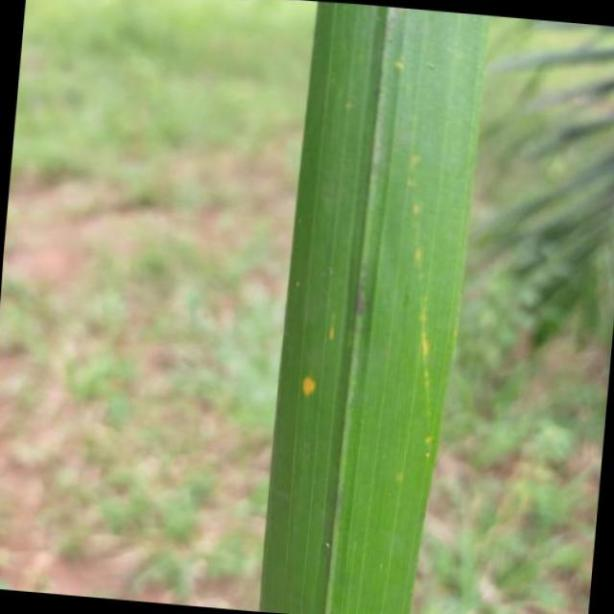Kalium: (258, 0, 494, 614)
